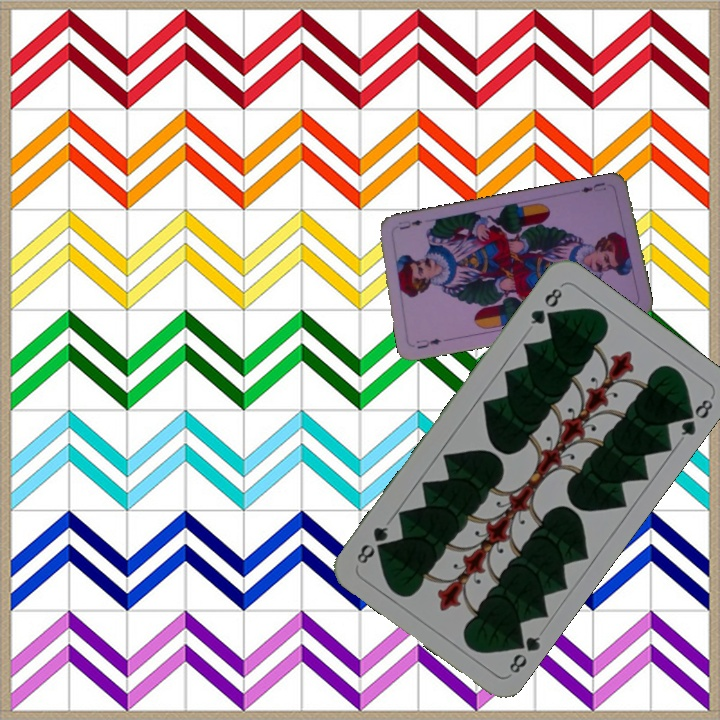EU: (412, 335, 444, 351), (577, 178, 607, 195)
G8: (505, 630, 543, 676), (526, 283, 565, 327)
